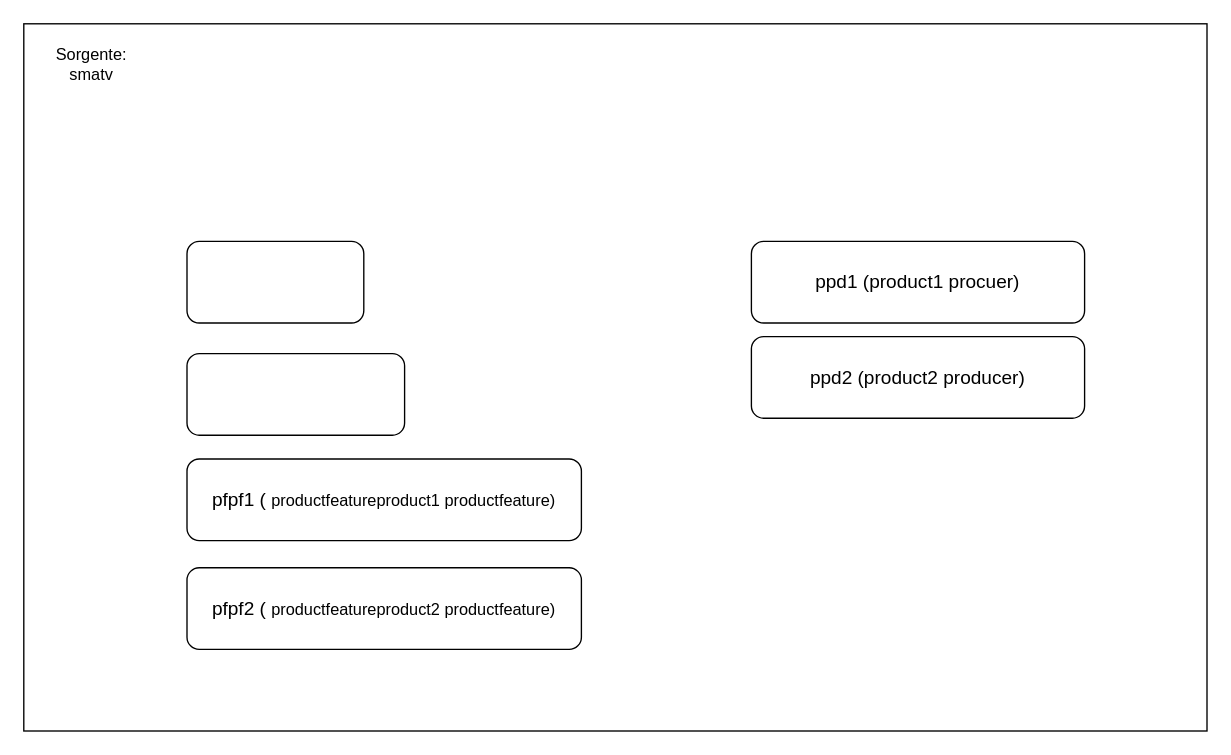
The diagram is 1231 pixels wide and 755 high, and some of its shapes have lost their labels. Each missing label, with the centre of its shape:
"op1(offer product1)" goes at point (275, 281).
"op2 (offer product2)" goes at point (295, 393).
